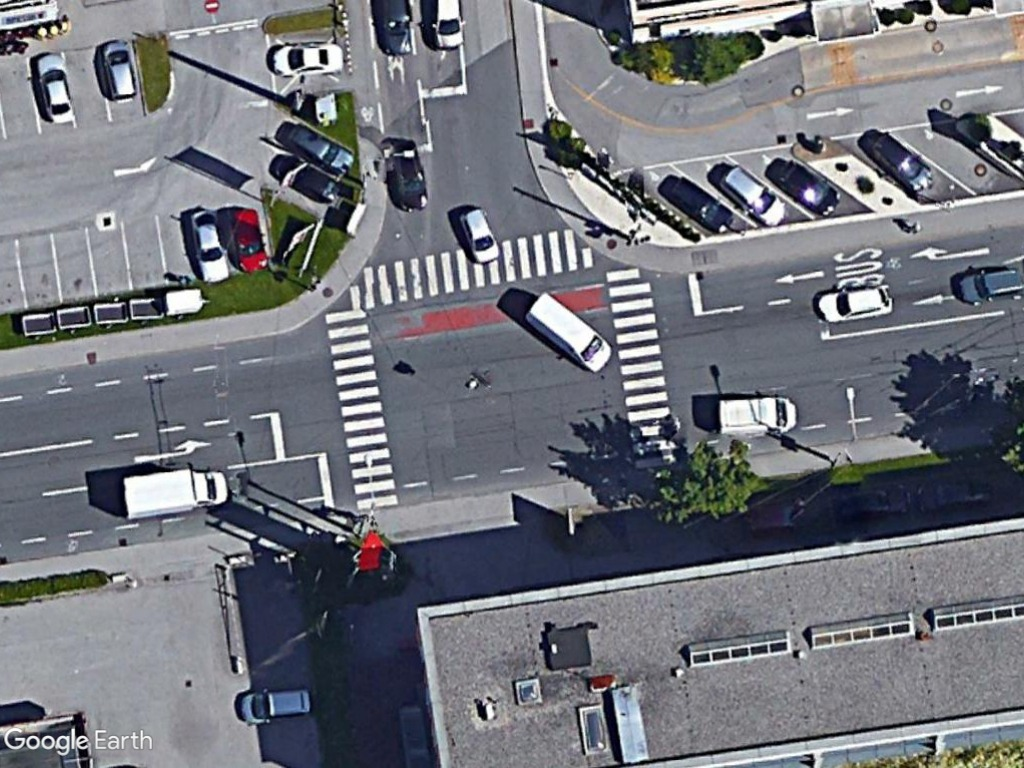car: (863, 123, 943, 201), (710, 156, 791, 233), (278, 120, 361, 182), (232, 678, 320, 728), (261, 34, 347, 84), (26, 47, 79, 127), (809, 276, 896, 324), (182, 205, 232, 285), (224, 201, 274, 276), (452, 199, 503, 269), (98, 36, 146, 108), (948, 263, 1024, 308)
truck: (114, 457, 229, 524)
van: (519, 288, 616, 375), (709, 392, 803, 440)
